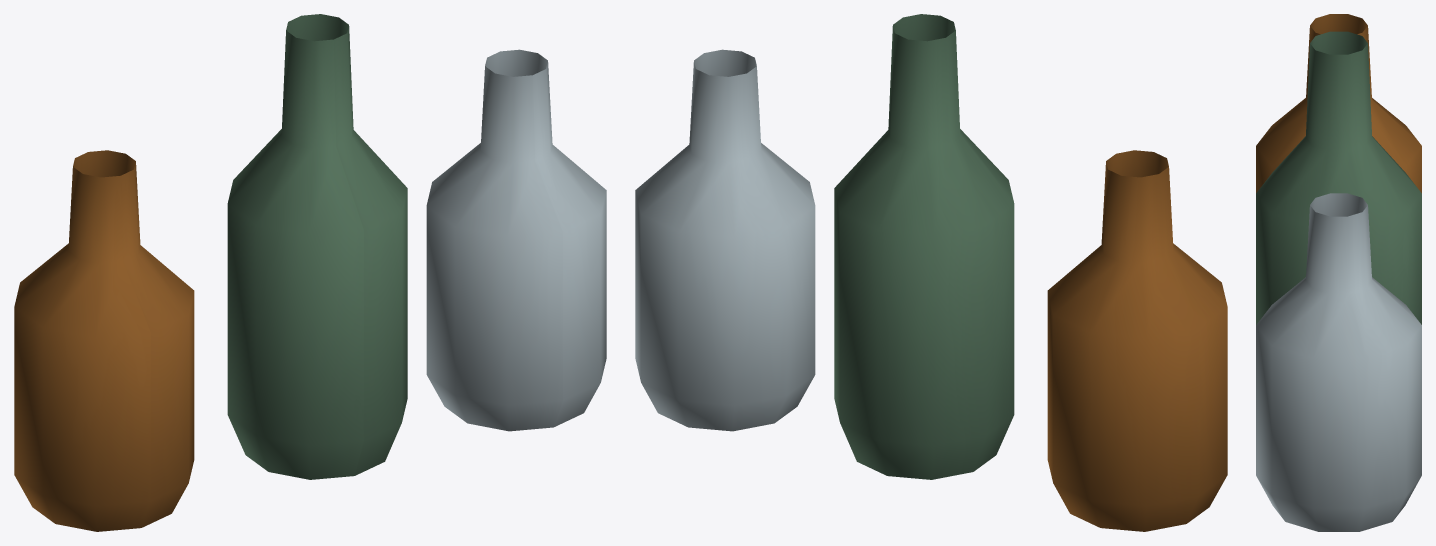
The model's file is SmallBottles_1.gltf.
3 renders of one model, left to right at view 1: azimuth 30°, elevation 25°; view 2: azimuth 150°, elevation 25°; view 3: azimuth 270°, elevation 25°, orthographic. The views are drawn at different scales.
Parts seen in each view (by area): view 1: SmallBottles_1; view 2: SmallBottles_1; view 3: SmallBottles_1.
Boxes of the visible parts, x1,y1,x2,y2 form: SmallBottles_1: (14,14,606,531); SmallBottles_1: (635,14,1227,531); SmallBottles_1: (1256,14,1421,531).
Size of the model in its own units: 0.21 by 0.15 by 0.06.
Materials: 3 (3 with a texture image).
